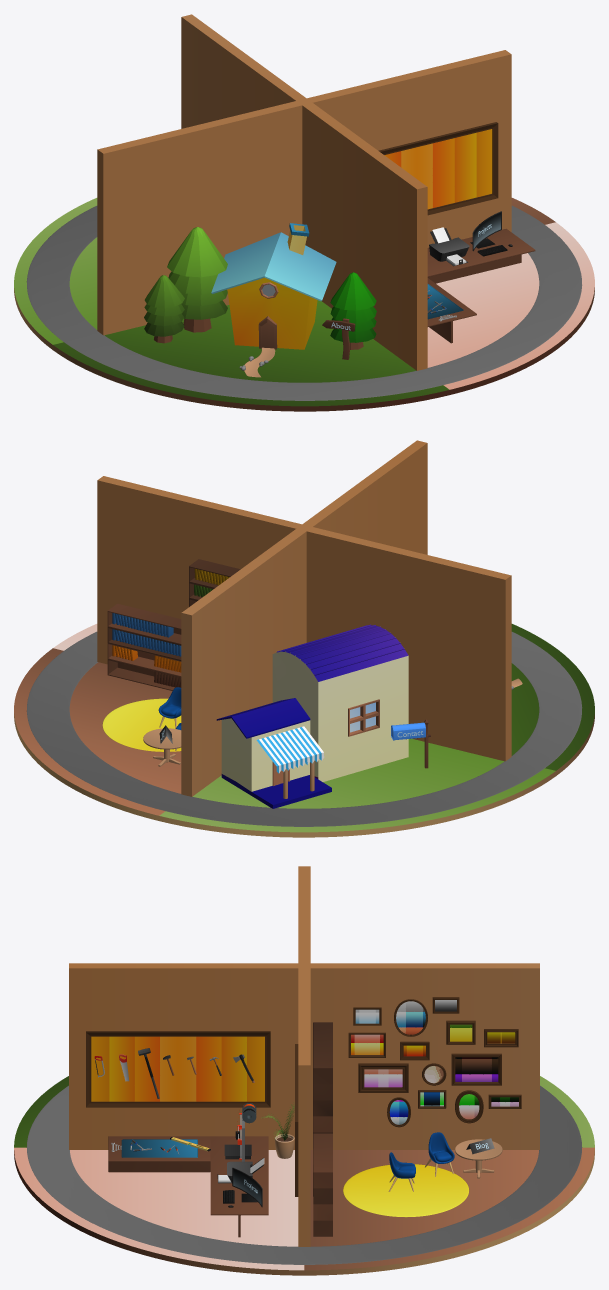
File: platform.glb
3 renders of one model, top to bottom at view 1: azimuth 30°, elevation 25°; view 2: azimuth 150°, elevation 25°; view 3: azimuth 270°, elevation 25°, orthographic.
Visible parts, largest first — view 1: Cube, Cylinder, Circle, Plane.005, Cube.014, Hut, Cube.003, Cone.007, Plane.004, Cone.011, Cone.003, Cube.264 (+7 smaller); view 2: Cube, Cylinder, Cube.260, Circle, Cube.004, Circle.001, Plane.009, Cube.001, Cylinder.001, ContactSign; view 3: Cube, Cylinder, Circle, Plane.007, Cube.003, Circle.001, Plane.006, Cube.001, Cube.004, Plane.008, Circle.015, Circle.007 (+7 smaller).
Part boxes in pixels (x1,y1,x2,y2): Cube: (97,14,511,370); Cylinder: (14,198,594,411); Circle: (26,205,582,400); Plane.005: (384,129,492,209); Cube.014: (211,232,336,301); Hut: (227,277,317,349); Cube.003: (427,228,535,343); Cone.007: (167,227,227,277); Plane.004: (378,122,498,215); Cone.011: (330,272,376,310); Cone.003: (144,275,184,308); Cube.264: (429,228,469,266); Cube: (97,440,511,796); Cylinder: (14,624,594,837); Cube.260: (216,624,408,808); Circle: (26,631,582,826); Cube.004: (107,603,181,690); Circle.001: (102,698,181,751); Plane.009: (256,726,324,773); Cube.001: (189,559,240,606); Cylinder.001: (143,728,181,766); ContactSign: (391,722,425,740); Cube: (69,866,539,1246); Cylinder: (14,1076,594,1275); Circle: (26,1085,582,1264); Plane.007: (91,1036,264,1101); Cube.003: (108,1136,268,1237); Circle.001: (343,1164,469,1217); Plane.006: (86,1031,270,1107); Cube.001: (313,1022,332,1196); Cube.004: (313,1133,332,1236); Plane.008: (121,1139,197,1157); Circle.015: (455,1057,498,1081); Circle.007: (358,1063,408,1092).
Size of the model in its own units: 20 by 7.1 by 20.
Materials: 1 (1 with a texture image).
